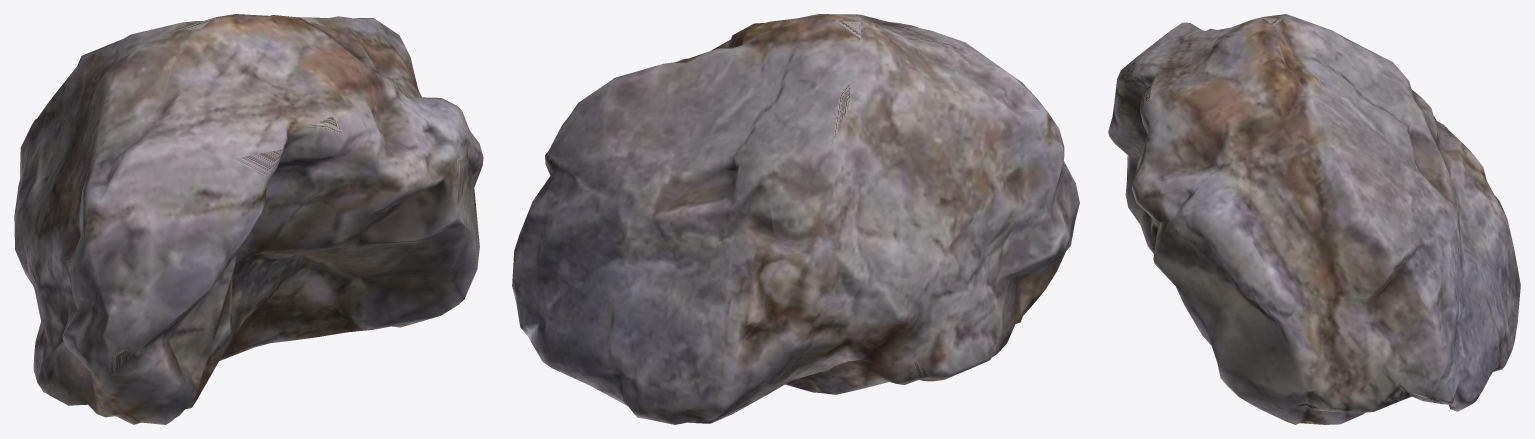
Rendered from bw-cliff-18.lod0.glb.
3 renders of one model, left to right at view 1: azimuth 30°, elevation 25°; view 2: azimuth 150°, elevation 25°; view 3: azimuth 270°, elevation 25°, orthographic. The views are drawn at different scales.
Visible parts, largest first — view 1: Object_2; view 2: Object_2; view 3: Object_2.
Part boxes in pixels (left/top/right/bottom): Object_2: left=14, top=14, right=483, bottom=424; Object_2: left=512, top=14, right=1079, bottom=424; Object_2: left=1108, top=14, right=1520, bottom=424.
Bounding box in the file's own units: 13.97 × 10.42 × 12.24.
Materials: 1 (1 with a texture image).
